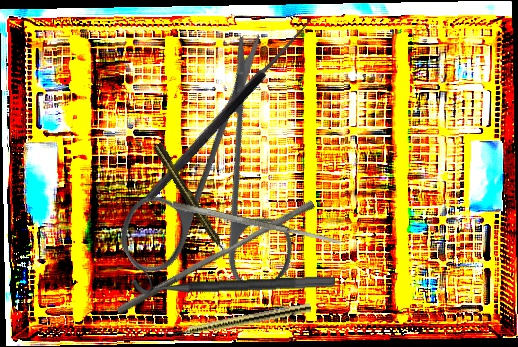Fixation Ring: (130, 258, 336, 296)
Handpiece: (151, 141, 231, 258), (160, 300, 312, 342)
Hook Surgical: (135, 10, 313, 203)
Iris Scissors: (60, 28, 377, 341)
Pusher: (115, 192, 316, 323)
Spatula Surgical: (171, 199, 342, 248)
